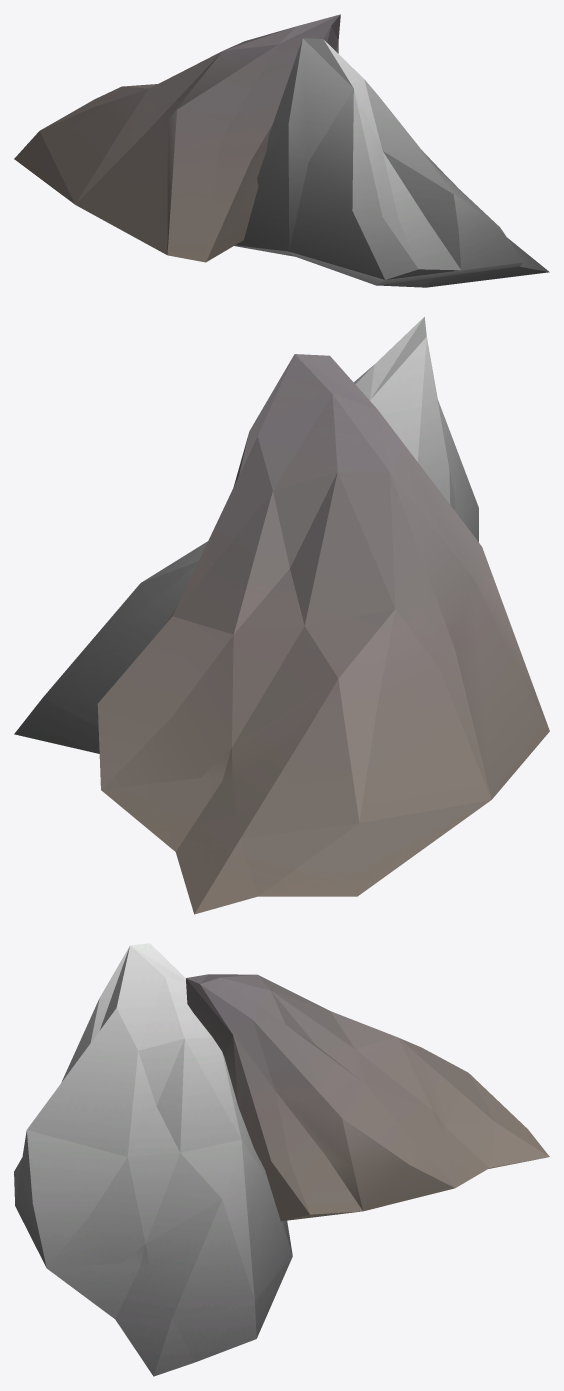
3 renders of one model, top to bottom at view 1: azimuth 30°, elevation 25°; view 2: azimuth 150°, elevation 25°; view 3: azimuth 270°, elevation 25°, orthographic. The views are drawn at different scales.
Parts seen in each view (by area): view 1: DoubleRockShape; view 2: DoubleRockShape; view 3: DoubleRockShape.
Boxes of the visible parts, x1,y1,x2,y2 form: DoubleRockShape: (14, 14, 549, 287); DoubleRockShape: (14, 317, 549, 914); DoubleRockShape: (14, 943, 549, 1376).
Bounding box in the file's own units: 17.55 × 13.08 × 20.44.
Materials: 1 (1 with a texture image).
